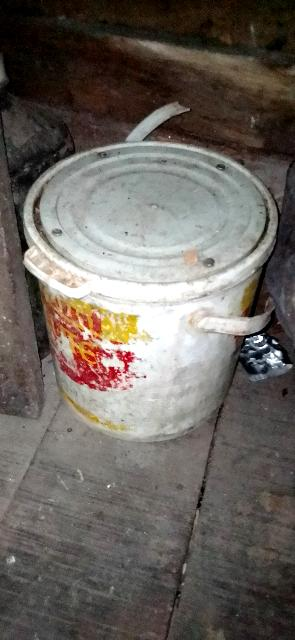hardplastic: (26, 134, 271, 446)
